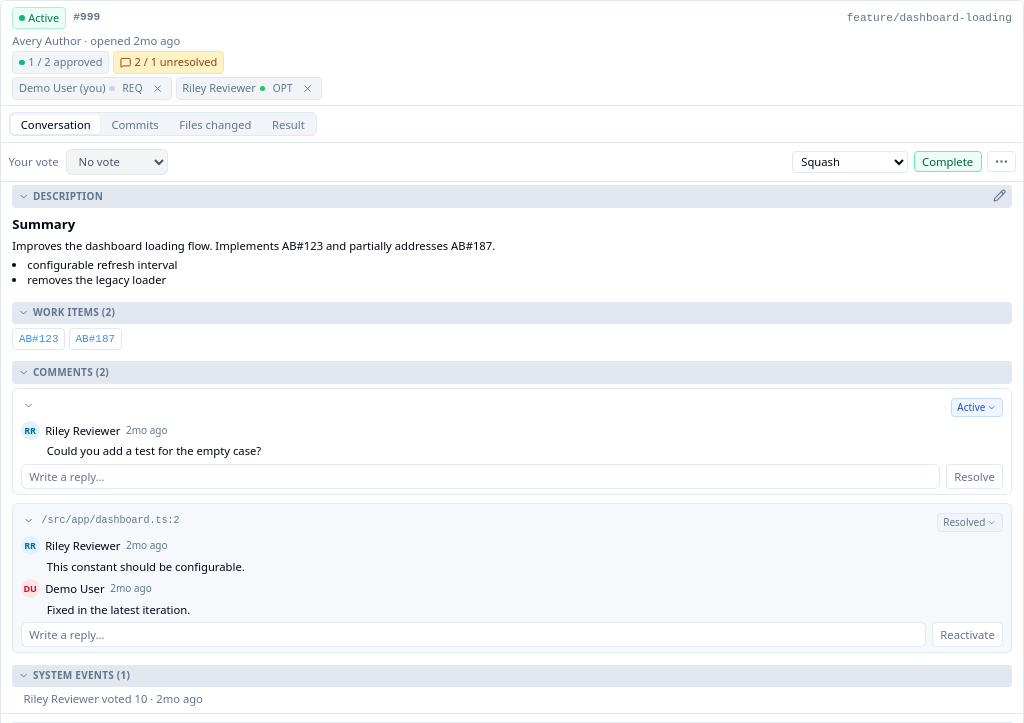
PrReviewPanel status actions › renders Complete inline and Abandon in the overflow menu for an active PR
This screenshot has width=1024, height=723.
Expected: the button "Complete" is shown, [914, 151, 982, 172]
Note: Secondary actions (incl. Abandon) now live behind the "⋯" overflow menu.
Click the button named "More actions": click(1001, 162) [987, 151, 1016, 172]
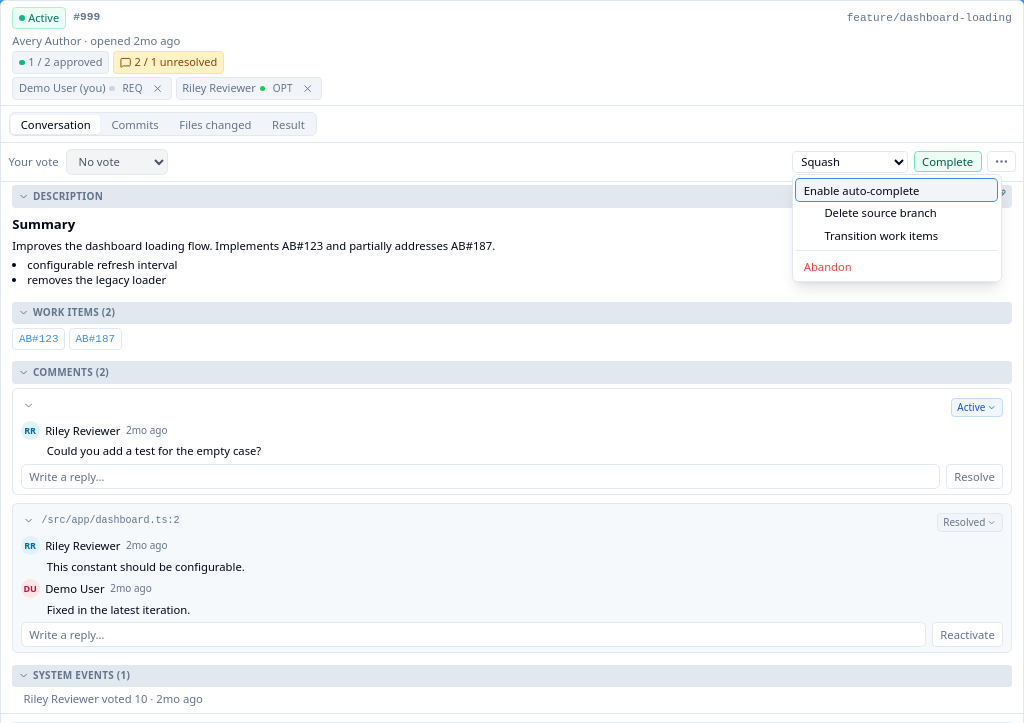
Now the menu item "Abandon" is shown, box [796, 255, 997, 277]
